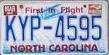placa de veiculo: (0, 0, 107, 53)
